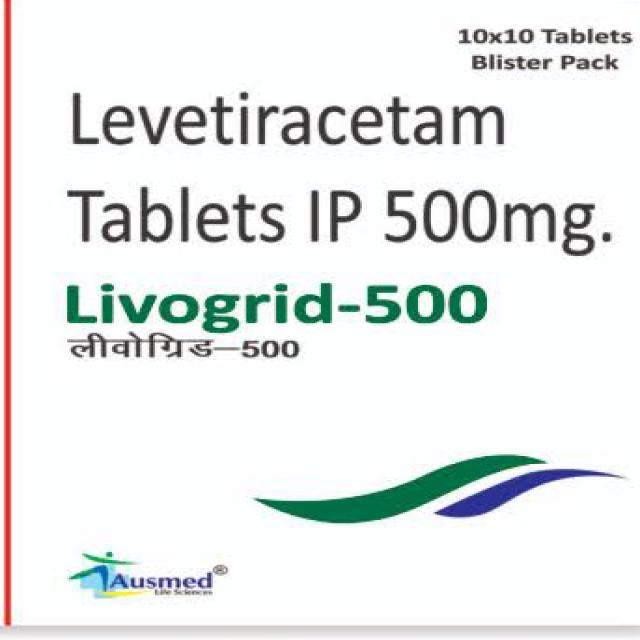drug-name: (64, 278, 494, 330)
